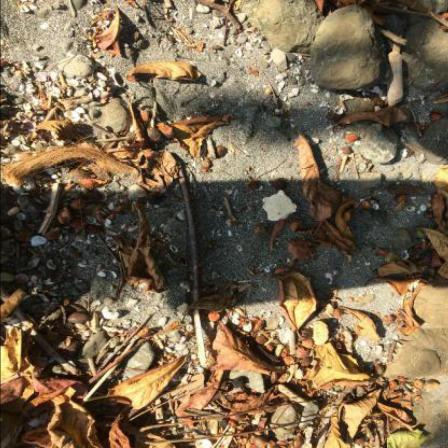Styrofoam piece: (263, 191, 298, 222)
